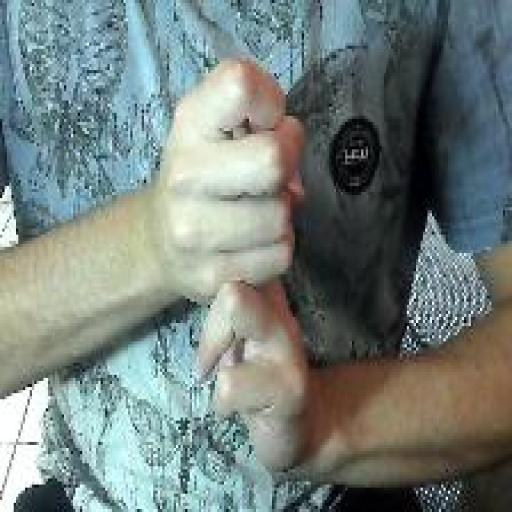Ne -rat-: (156, 53, 316, 480)
